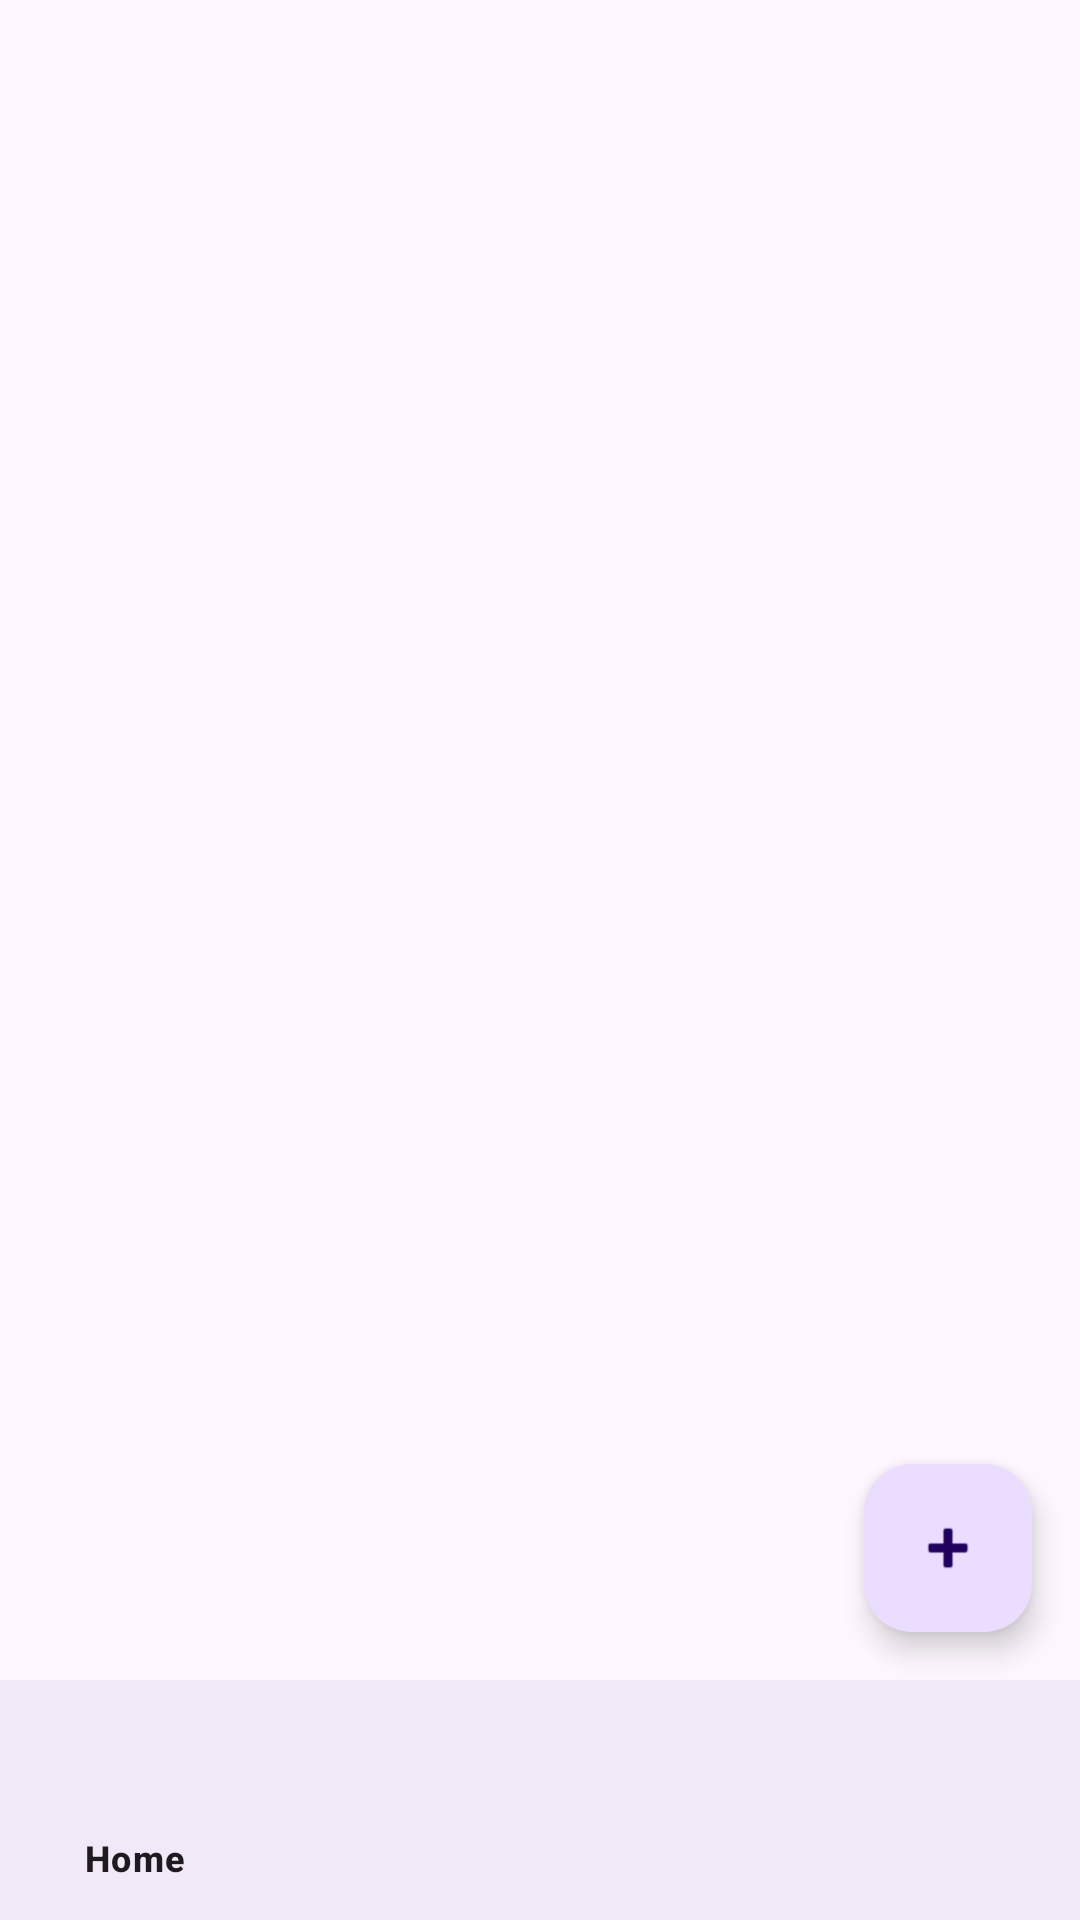

Icons on this 1080w x 1920h Android screen, each with its box as [x1, y1, x2, y2]:
add: [864, 1464, 1032, 1632]
